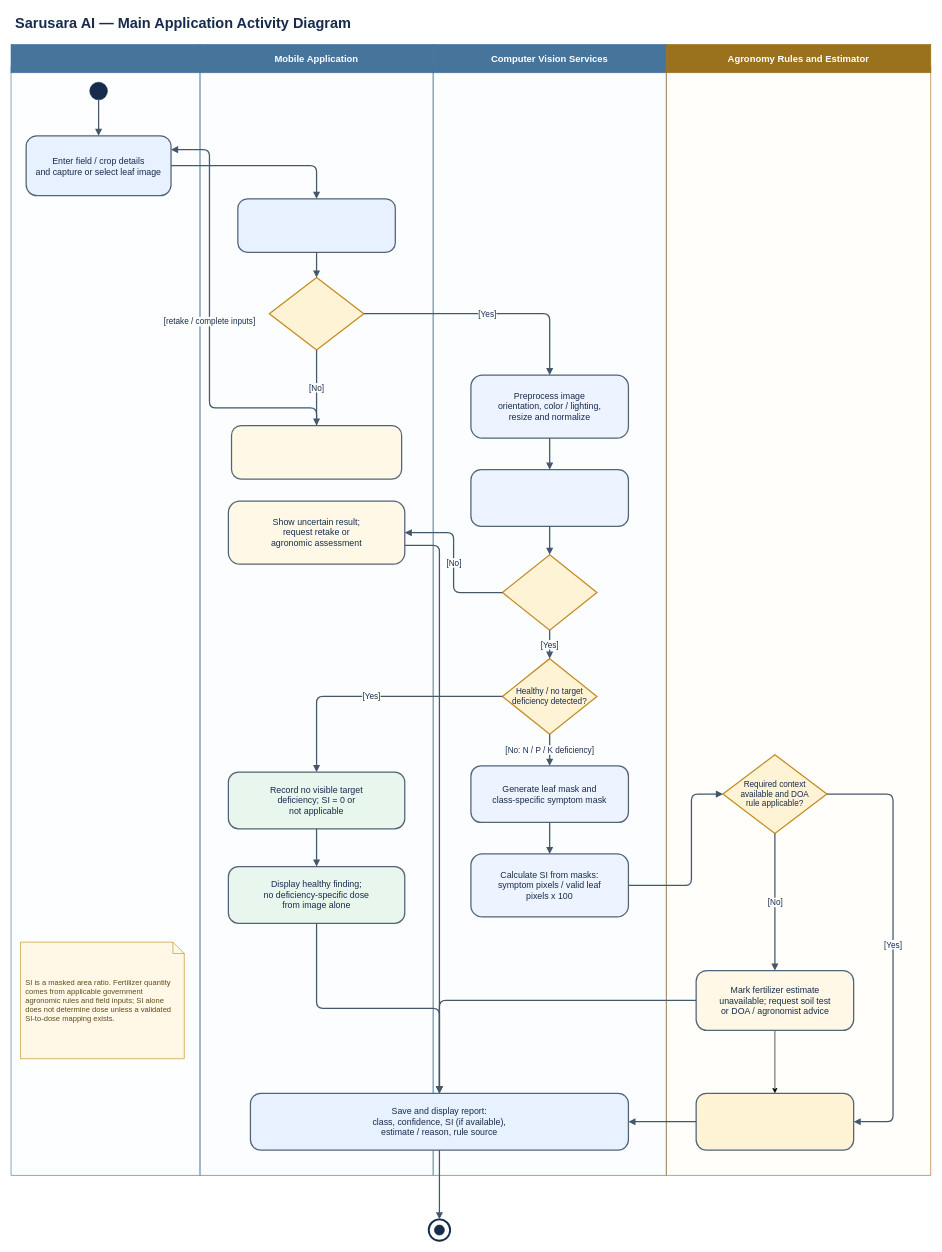
Some shapes in this 942 by 1252 pixel diagram are drawn without their labels. Here are the shapes that lost their labels. From the top down, the box of each, then its label:
(10, 44, 200, 73): Farmer / Field User
(237, 198, 396, 253): Validate required inputs and image quality
(268, 277, 364, 350): Image usable and inputs complete?
(231, 425, 402, 479): Show retake guidance or request missing details
(470, 469, 629, 527): Classify leaf image healthy / N / P / K / other
(501, 554, 597, 631): Supported class and confidence acceptable?
(695, 1092, 854, 1150): Apply approved rule; convert nutrient rate to product mass and scale by area
